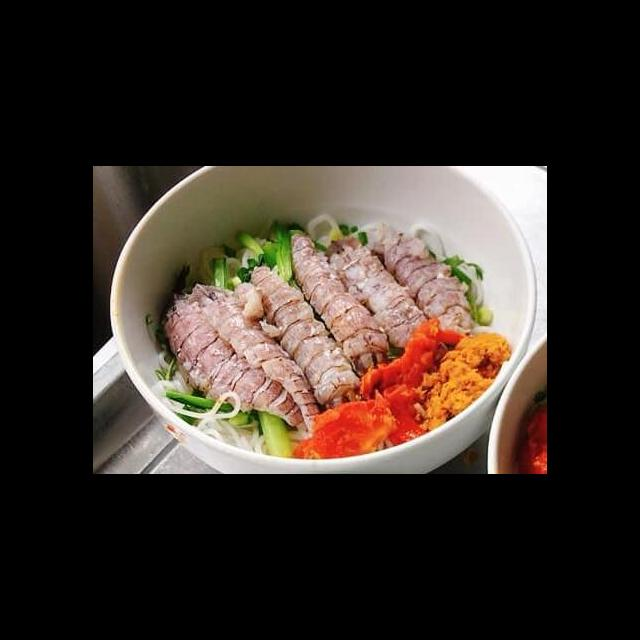bun: (152, 350, 274, 457)
tom tit: (159, 287, 310, 436), (188, 280, 327, 436), (244, 260, 368, 413), (281, 229, 395, 382), (323, 231, 433, 354), (369, 223, 478, 342)
